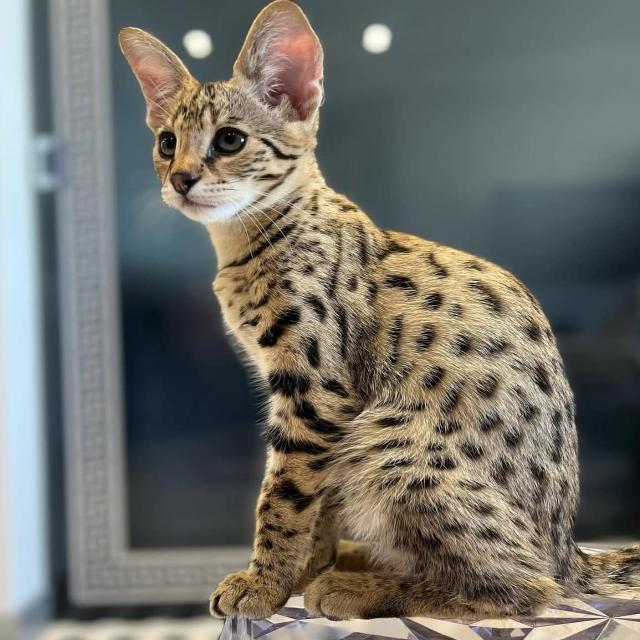Savannah: (113, 0, 640, 622)
